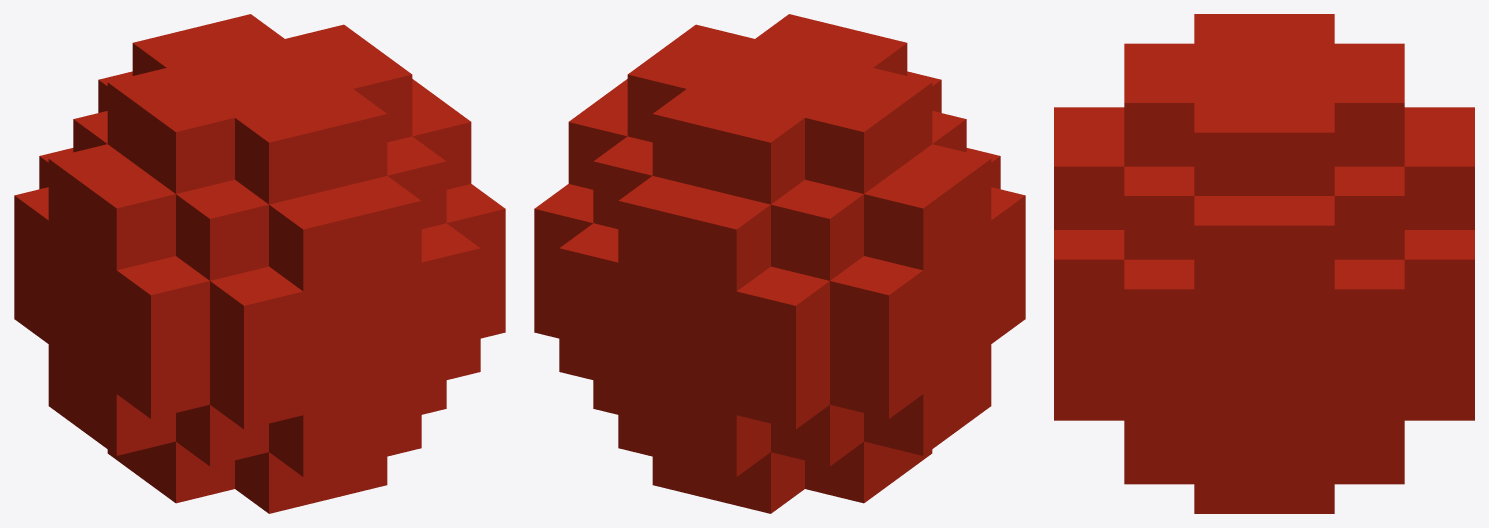
File: berry_1.glb
3 renders of one model, left to right at view 1: azimuth 30°, elevation 25°; view 2: azimuth 150°, elevation 25°; view 3: azimuth 270°, elevation 25°, orthographic. The views are drawn at different scales.
Parts seen in each view (by area): view 1: Untitled; view 2: Untitled; view 3: Untitled.
Part boxes in pixels (box(x1,y1,x2,y2)): Untitled: box(14, 14, 505, 513); Untitled: box(534, 14, 1025, 513); Untitled: box(1054, 14, 1474, 513).
Bounding box in the file's own units: 0.1 × 0.1 × 0.1.
1 material, 1 textured.
